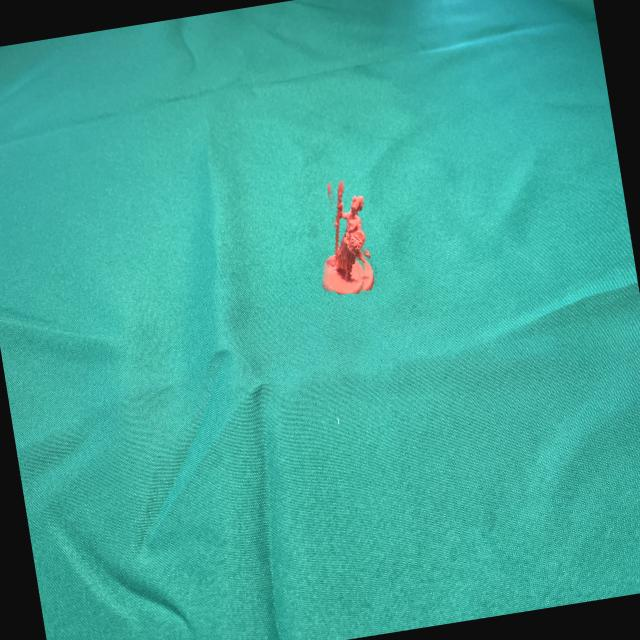amon_follower: (322, 181, 366, 294)
